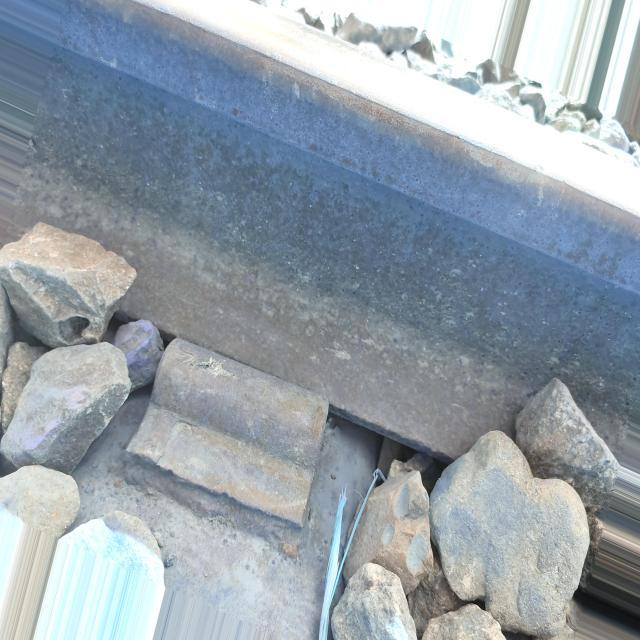Missing Fastener: (92, 324, 352, 574)
